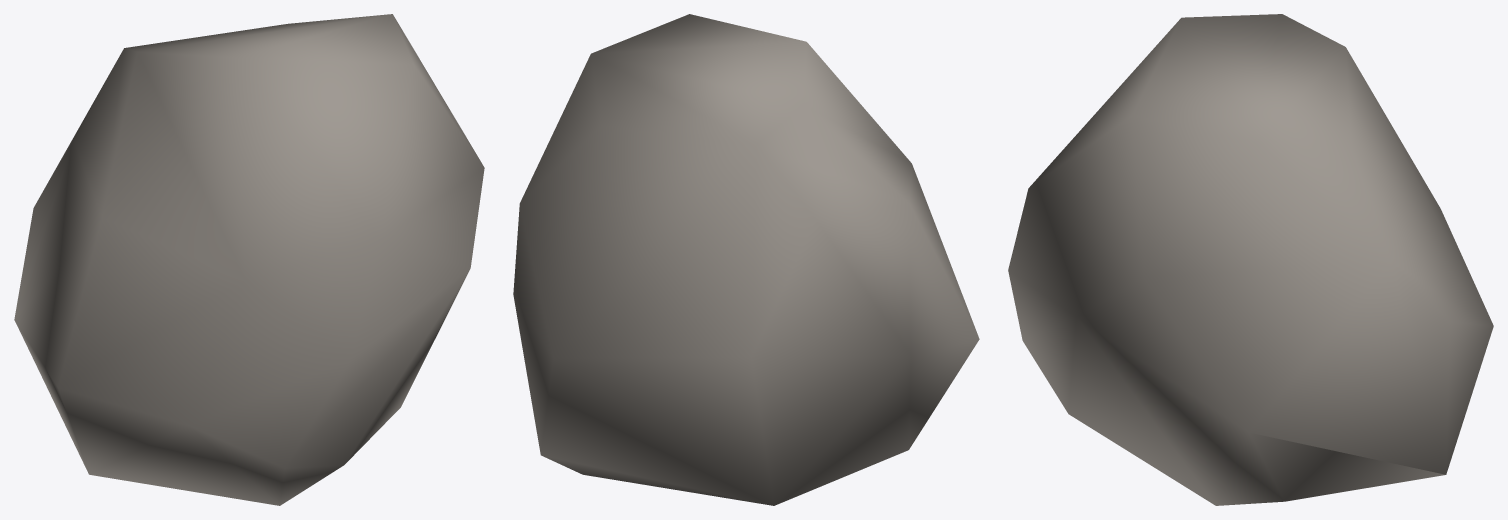
The model's file is Environment_Rock_4.low.gltf.
3 views of the same model, side by side, from view 1: azimuth 30°, elevation 25°; view 2: azimuth 150°, elevation 25°; view 3: azimuth 270°, elevation 25° (orthographic). The views are drawn at different scales.
Parts seen in each view (by area): view 1: Environment_Rock_4; view 2: Environment_Rock_4; view 3: Environment_Rock_4.
Part boxes in pixels (box(x1,y1,x2,y2)): Environment_Rock_4: box(14, 14, 484, 505); Environment_Rock_4: box(513, 14, 979, 505); Environment_Rock_4: box(1008, 14, 1493, 505).
Size of the model in its own units: 0.7603 by 0.7059 by 0.746.
1 material, 1 textured.
